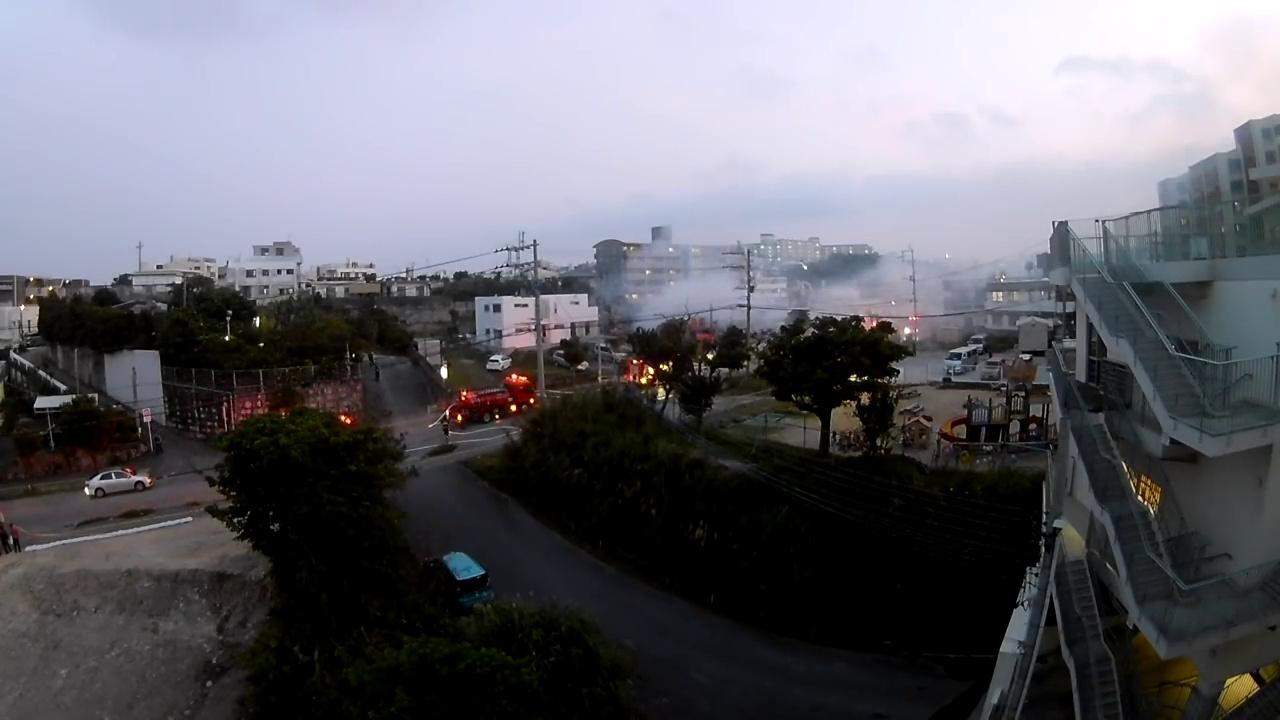smoke: (646, 280, 888, 326)
